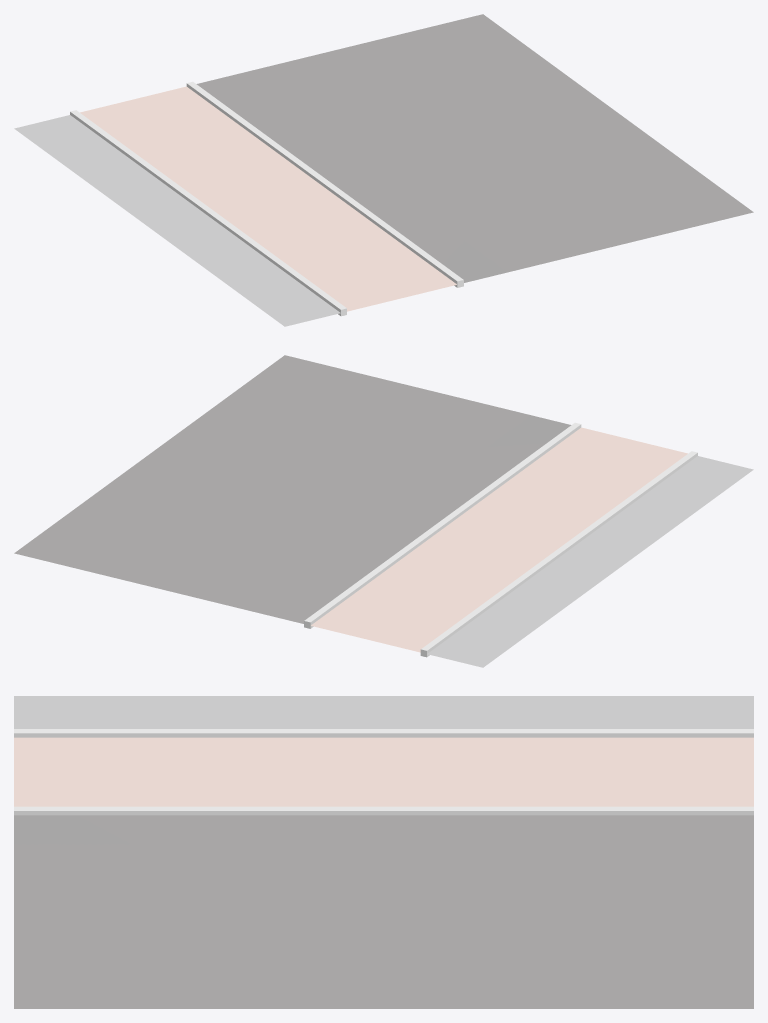
File: building_platform_013.glb
3 views of the same model, one above another, from view 1: azimuth 30°, elevation 25°; view 2: azimuth 150°, elevation 25°; view 3: azimuth 270°, elevation 25° (orthographic). The views are drawn at different scales.
Parts seen in each view (by area): view 1: building_platform_013; view 2: building_platform_013; view 3: building_platform_013.
Boxes of the visible parts, bbox=[...] form: building_platform_013: bbox=[14, 14, 753, 326]; building_platform_013: bbox=[14, 355, 753, 667]; building_platform_013: bbox=[14, 696, 753, 1008].
Bounding box in the file's own units: 15 × 0.2 × 15.
1 material, 1 textured.
